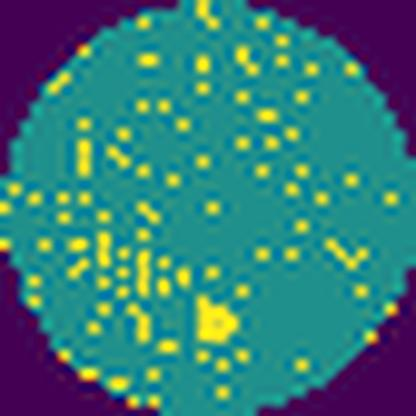Edge-Loc: (190, 293, 238, 349)
